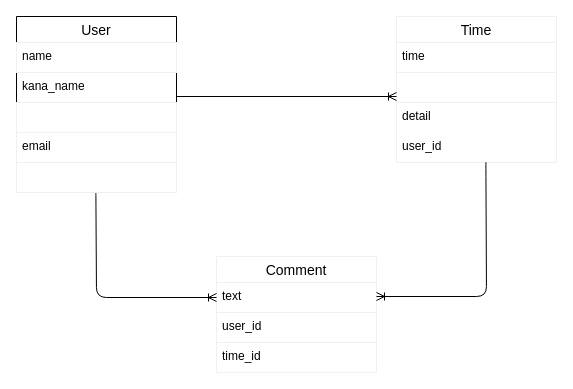
Image size: 573x389. Some labels were removed from this diagram. The shapes that lost their labels are listed below. From the top down, each one's centre as x and y in pixels, then its label:
At pixel 476 87: "content".
At pixel 96 117: "department".
At pixel 96 177: "encrypted_password".
